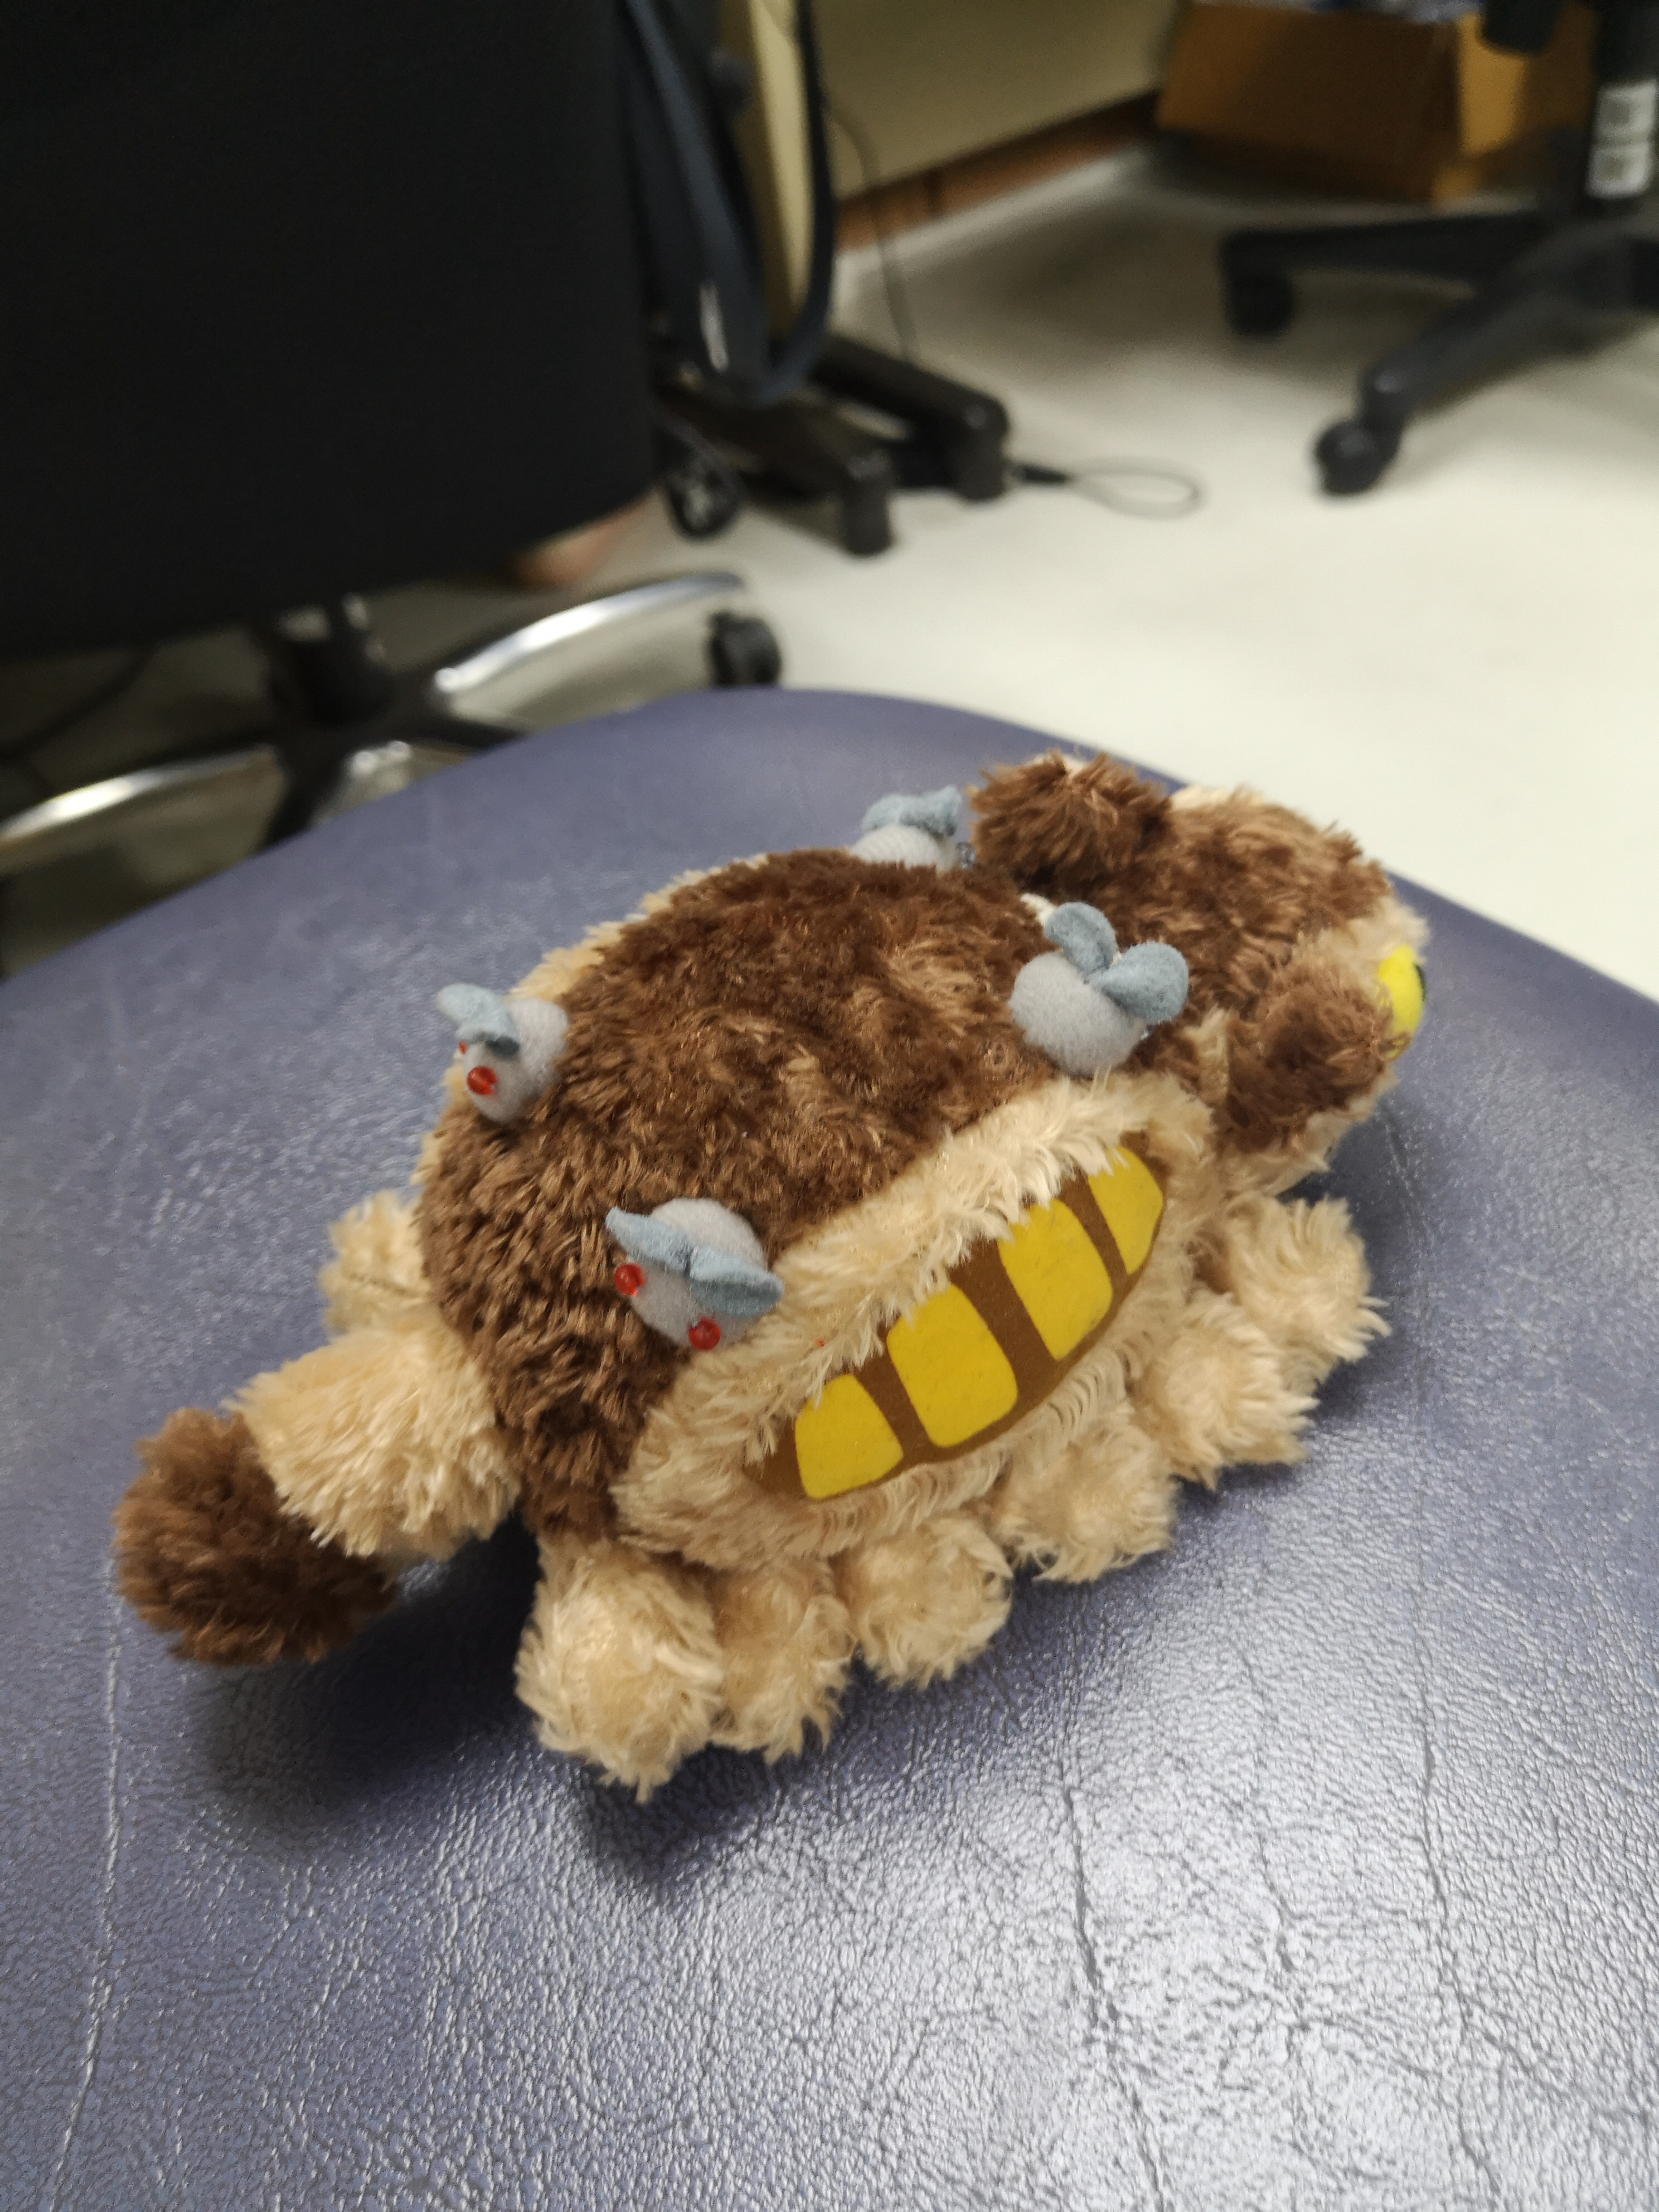nekobus: (89, 730, 1457, 1808)
